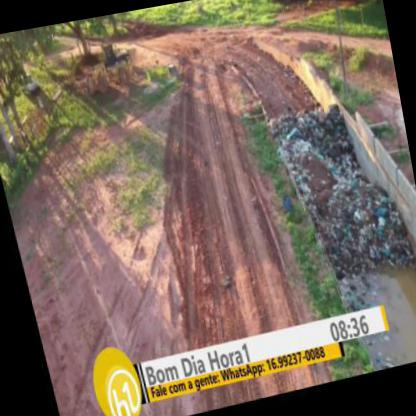agua: (379, 272, 415, 370)
lixo: (274, 100, 390, 276)
